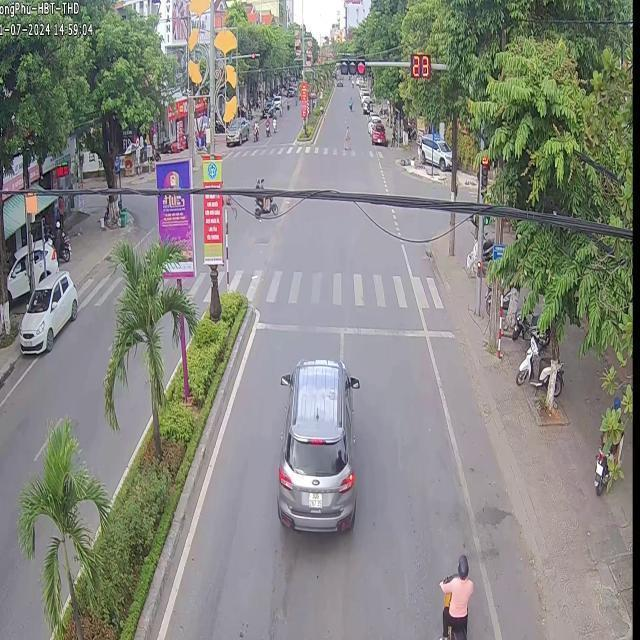car: (276, 358, 357, 530), (18, 269, 76, 352)
motobike: (438, 554, 472, 638)
red_light: (410, 54, 431, 77), (339, 58, 365, 76), (482, 149, 488, 193)
stop_line: (252, 320, 455, 338)
